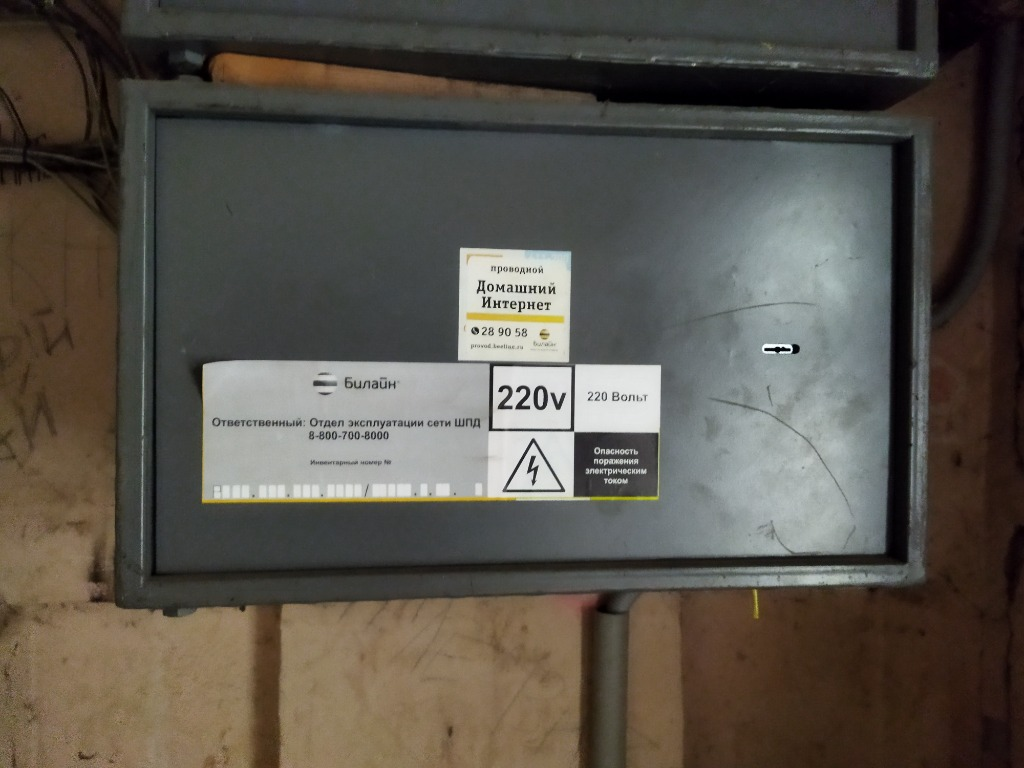e2-6u: (99, 70, 940, 616)
